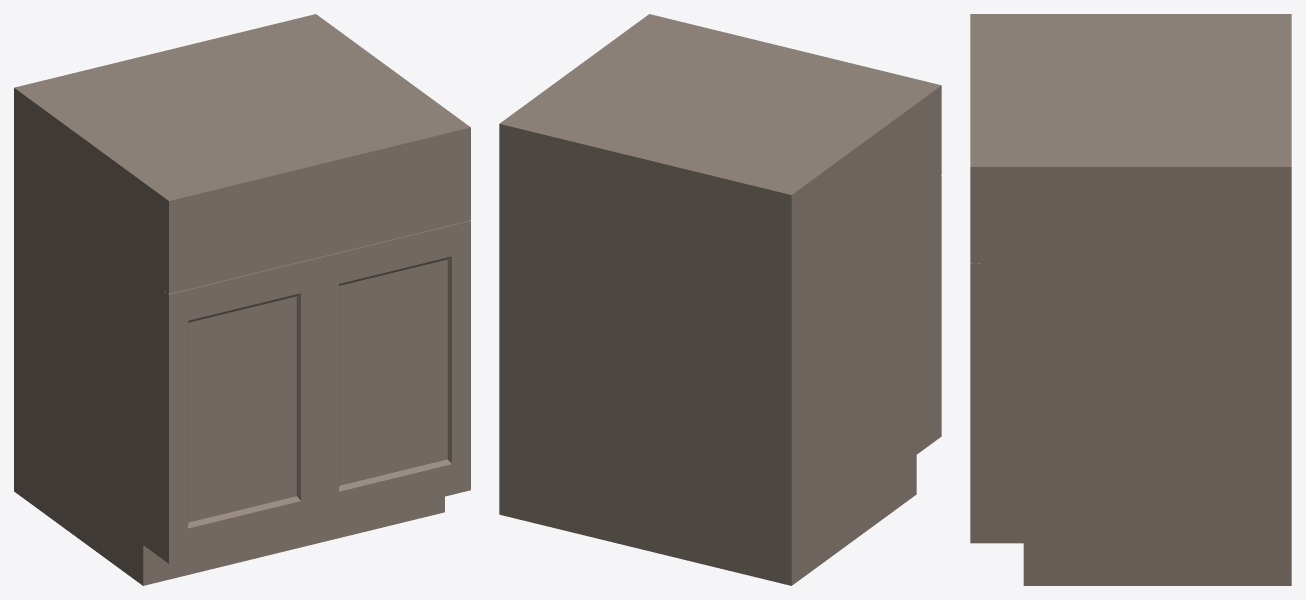
Rendered from Base-Cabinet-Double-Door-Two-Drawer-24-Deep_std_001_W27in.glb.
3 renders of one model, left to right at view 1: azimuth 30°, elevation 25°; view 2: azimuth 150°, elevation 25°; view 3: azimuth 270°, elevation 25°, orthographic. The views are drawn at different scales.
Visible parts, largest first — view 1: Base-Cabinet-Double-Door-Two-Drawer-24-Deep.std.001_W27in; view 2: Base-Cabinet-Double-Door-Two-Drawer-24-Deep.std.001_W27in; view 3: Base-Cabinet-Double-Door-Two-Drawer-24-Deep.std.001_W27in.
Boxes of the visible parts, x1,y1,x2,y2 form: Base-Cabinet-Double-Door-Two-Drawer-24-Deep.std.001_W27in: [14, 14, 470, 585]; Base-Cabinet-Double-Door-Two-Drawer-24-Deep.std.001_W27in: [499, 14, 941, 585]; Base-Cabinet-Double-Door-Two-Drawer-24-Deep.std.001_W27in: [970, 14, 1291, 585].
Size of the model in its own units: 0.6858 by 0.8763 by 0.6096.
